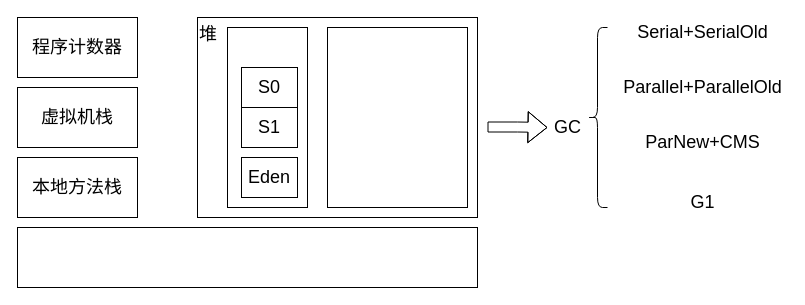
This 805x305 diagram has some shape labels left out. The box of each missing label's shape, as (x1, y1, x2, y2) in pixels:
Old: (326, 26, 468, 208)
Young: (226, 26, 308, 208)
元空间: (16, 226, 478, 288)
